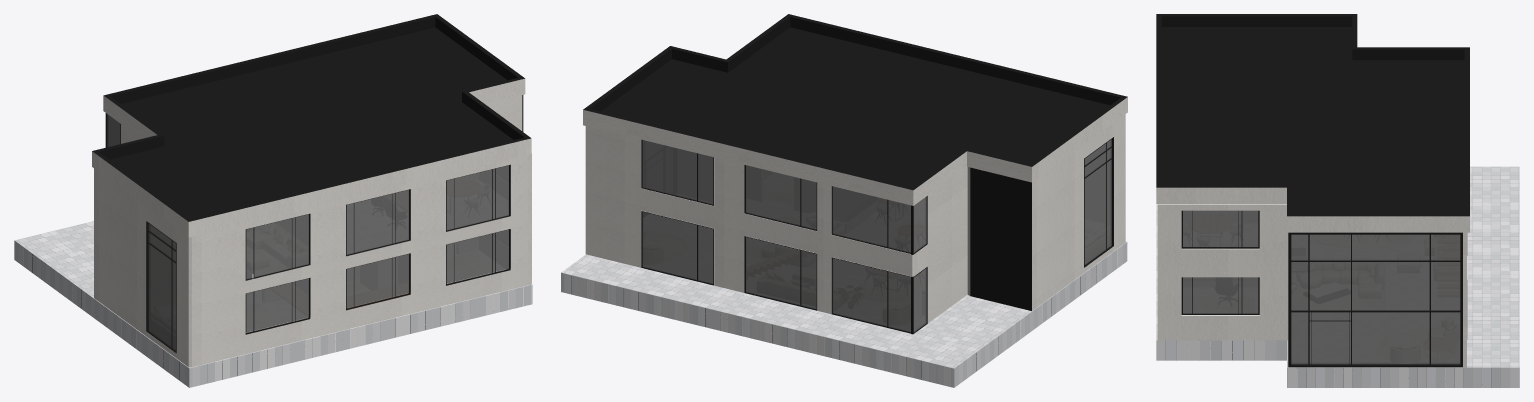
The model's file is apt_office.glb.
3 renders of one model, left to right at view 1: azimuth 30°, elevation 25°; view 2: azimuth 150°, elevation 25°; view 3: azimuth 270°, elevation 25°, orthographic. The views are drawn at different scales.
Parts seen in each view (by area): view 1: office; view 2: office; view 3: office.
Part boxes in pixels (x1=…): office: x1=14, y1=14, x2=532, y2=387; office: x1=561, y1=14, x2=1127, y2=387; office: x1=1156, y1=14, x2=1519, y2=387.
Bounding box in the file's own units: 15.43 × 6.13 × 11.7.
Materials: 17 (15 with a texture image).
